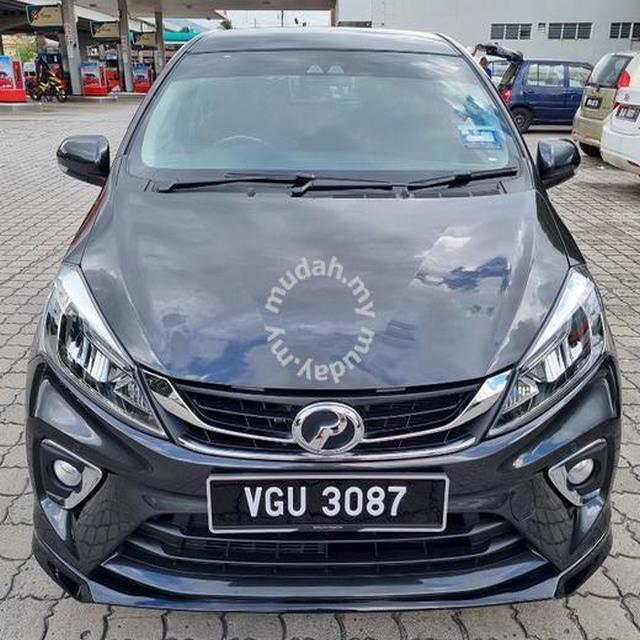License_Plate: (202, 474, 458, 538)
car: (20, 18, 630, 612)
